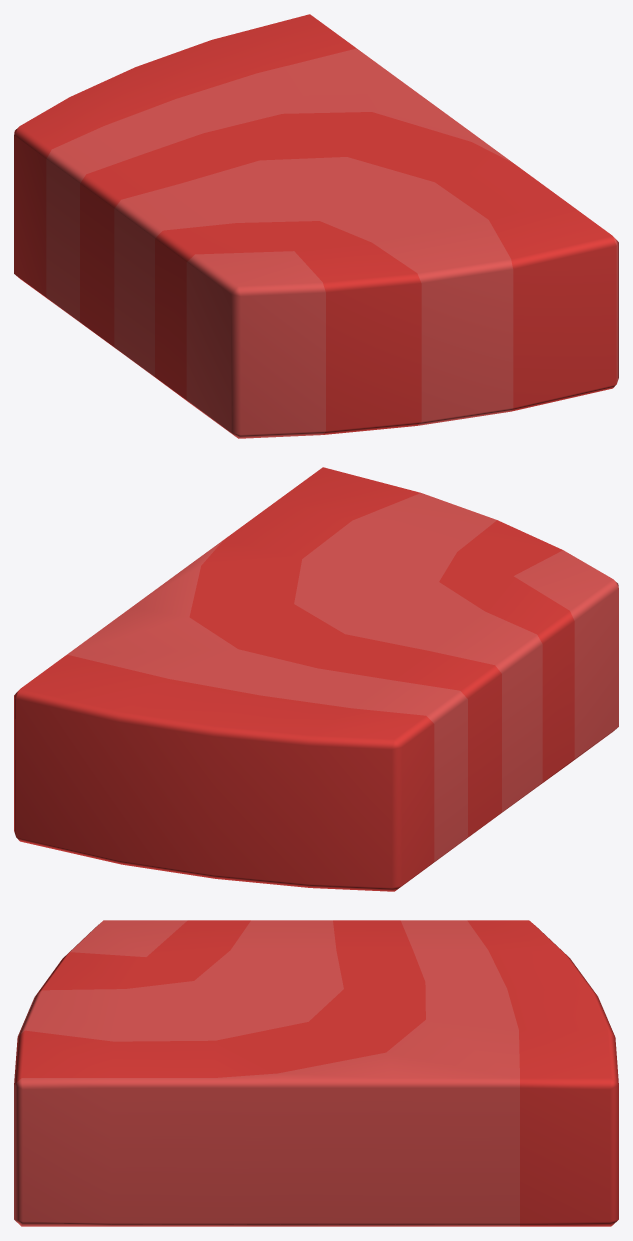
Rendered from Tuna_1_Fillet_3.fbx.
3 views of the same model, one above another, from view 1: azimuth 30°, elevation 25°; view 2: azimuth 150°, elevation 25°; view 3: azimuth 270°, elevation 25° (orthographic). The views are drawn at different scales.
Visible parts, largest first — view 1: Tuna_1_Fillet_3; view 2: Tuna_1_Fillet_3; view 3: Tuna_1_Fillet_3.
Boxes of the visible parts, bbox=[...] form: Tuna_1_Fillet_3: bbox=[14, 14, 618, 438]; Tuna_1_Fillet_3: bbox=[14, 467, 618, 891]; Tuna_1_Fillet_3: bbox=[14, 920, 618, 1226].
Bounding box in the file's own units: 28.45 × 12 × 44.3.
